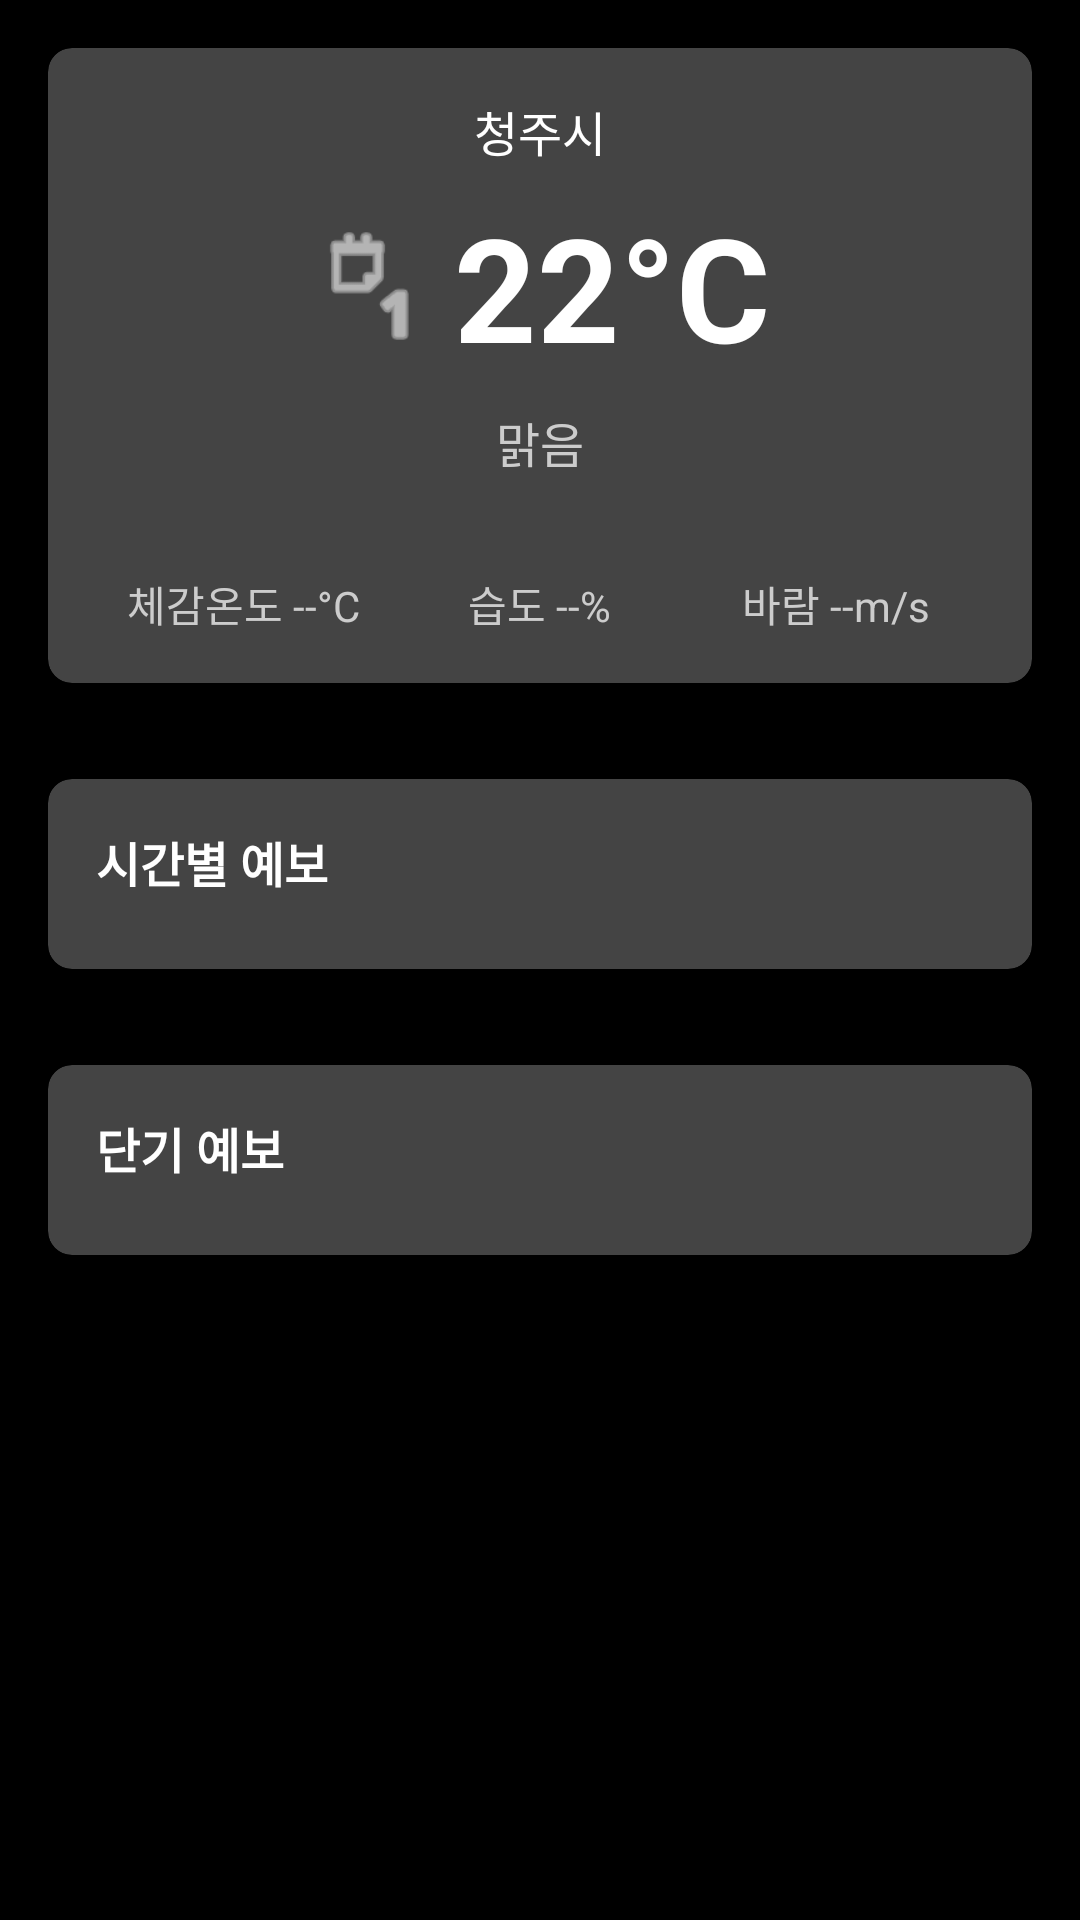

Icons on this 1080×1920 Android screen, each with the point to tap as (x=x, y=y):
day: (x=369, y=286)
